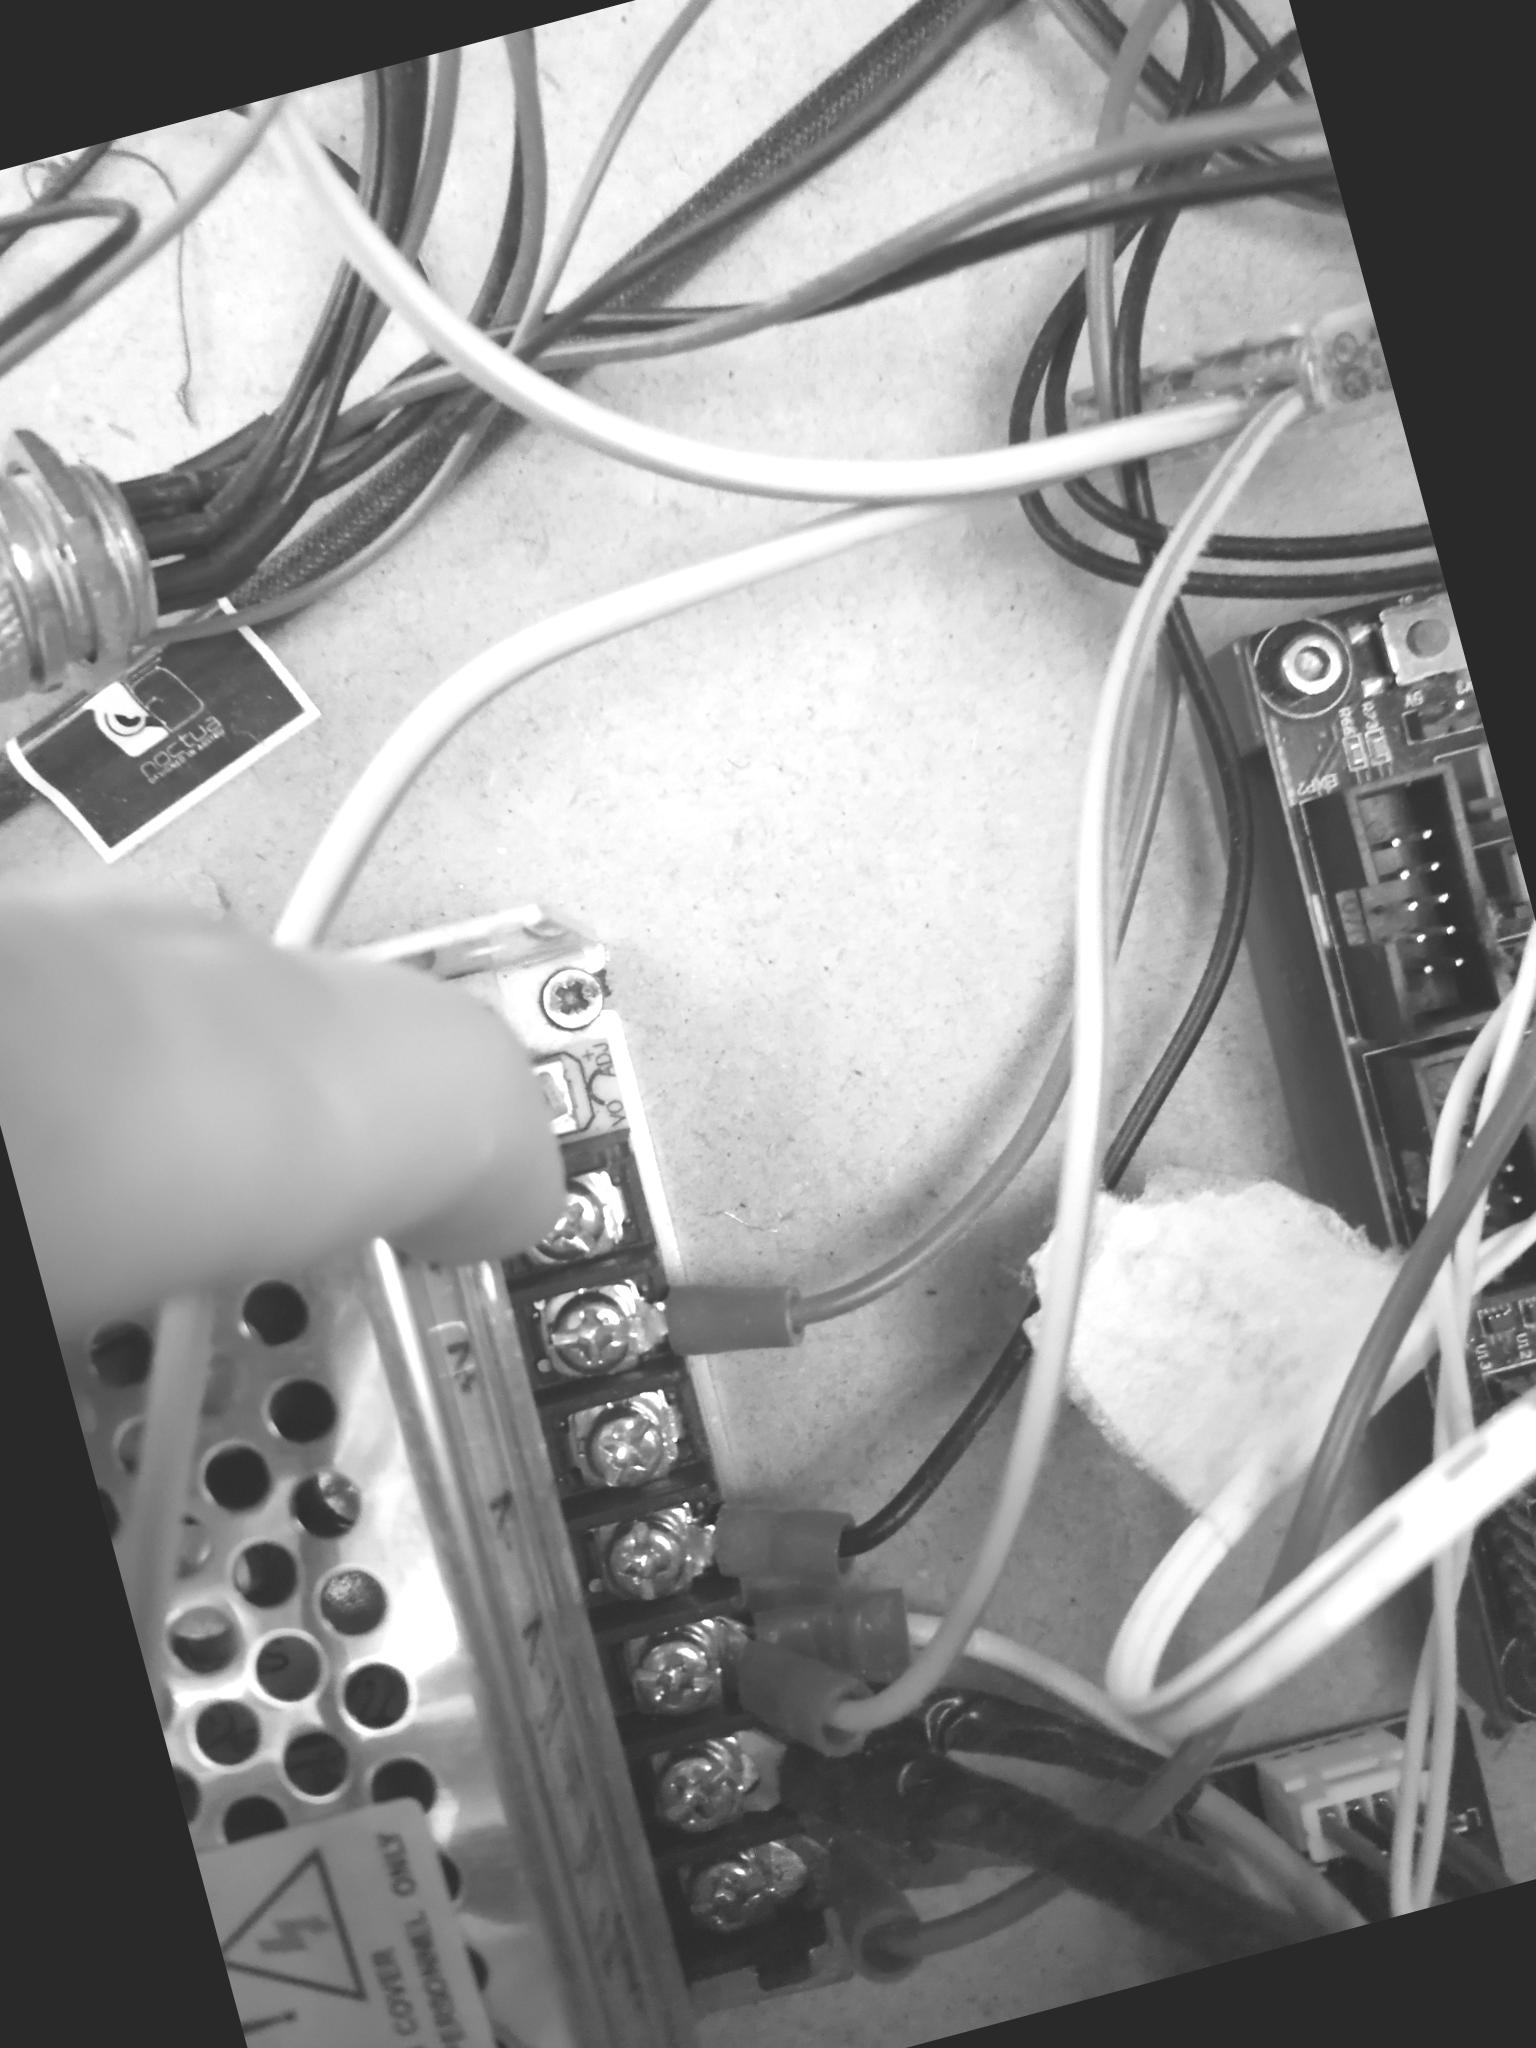screw: (532, 1269, 648, 1386), (588, 1504, 700, 1618), (620, 1622, 730, 1733), (644, 1736, 756, 1844), (1259, 613, 1365, 719), (572, 1395, 674, 1497)
